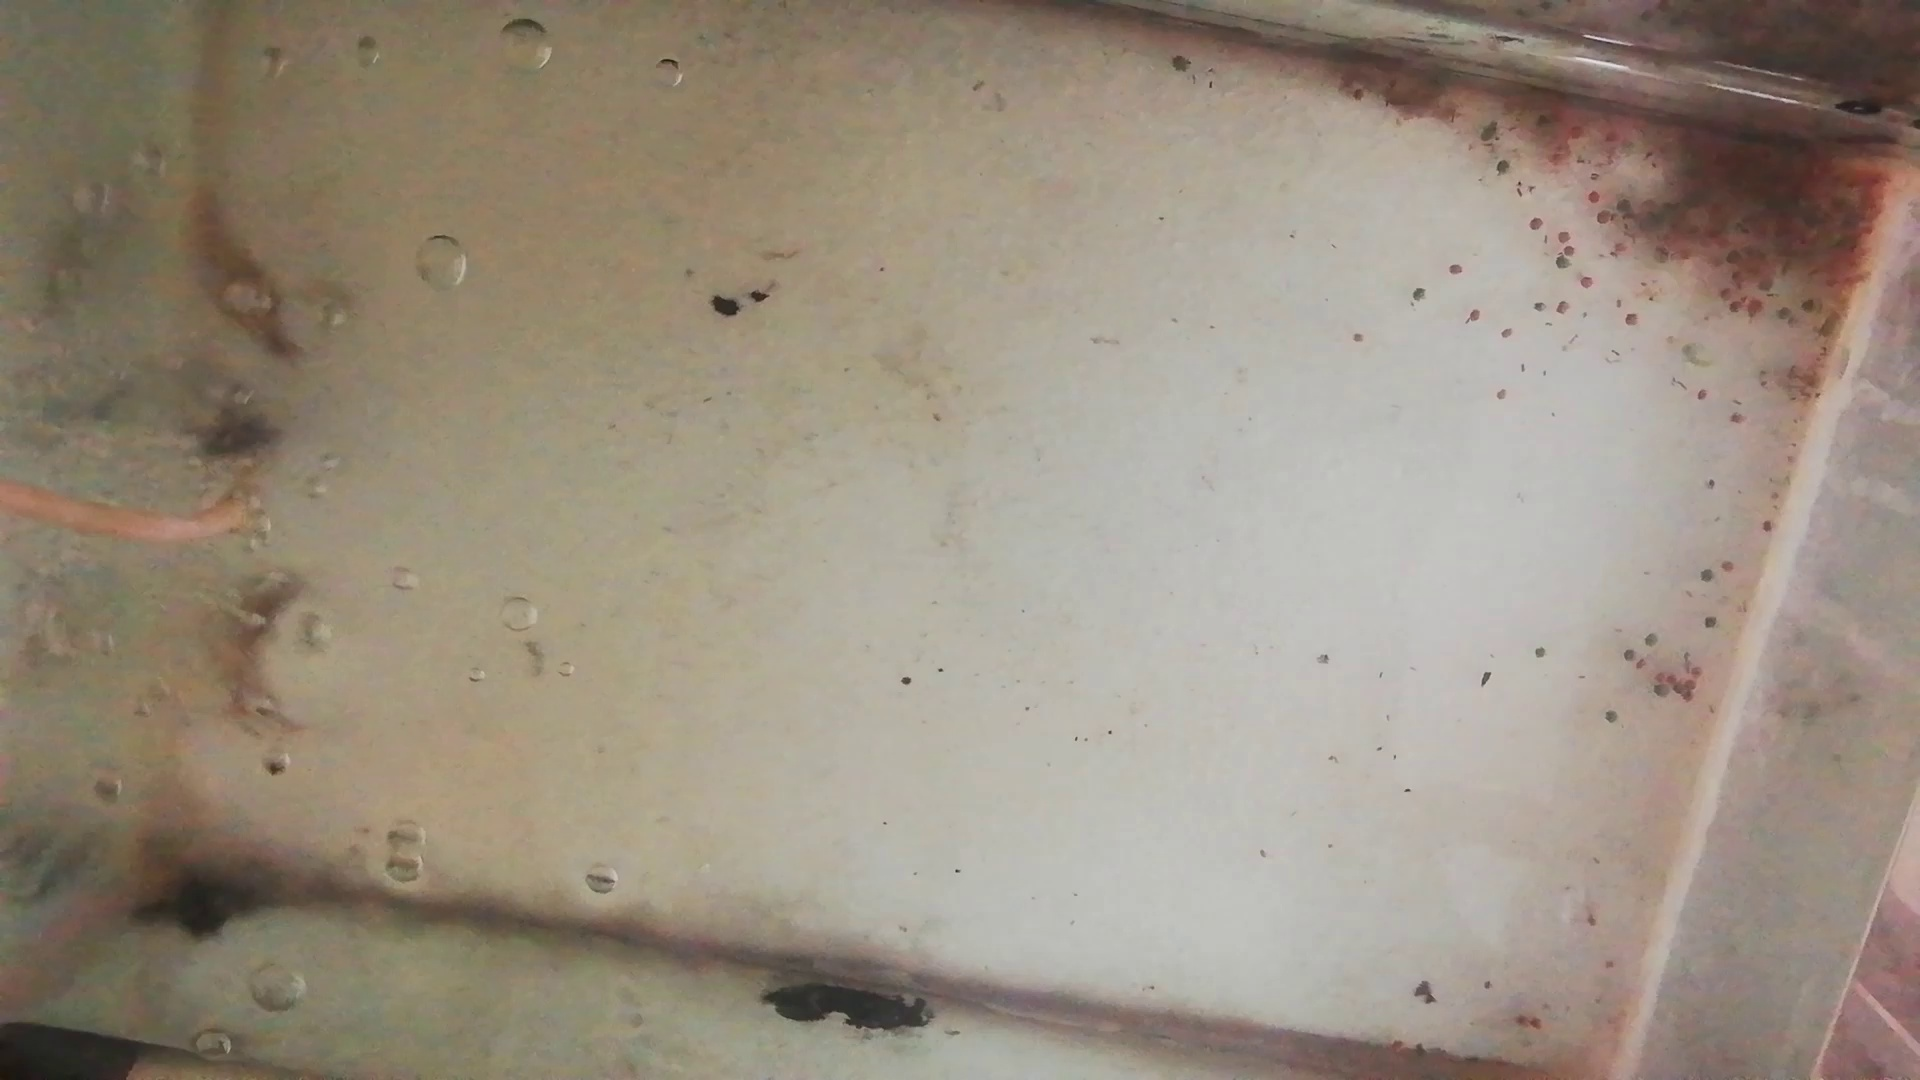fish: (185, 175, 302, 365), (214, 576, 303, 744)
